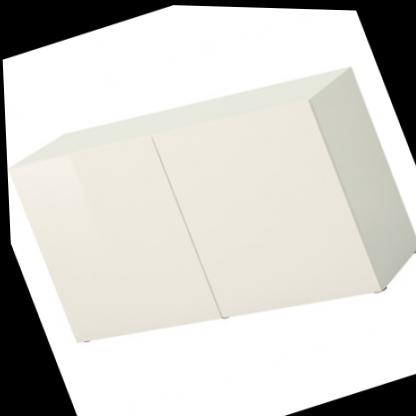Cabinet: (1, 23, 416, 398)
